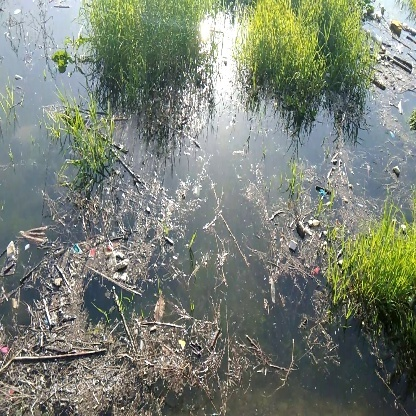branch: (13, 343, 115, 370)
